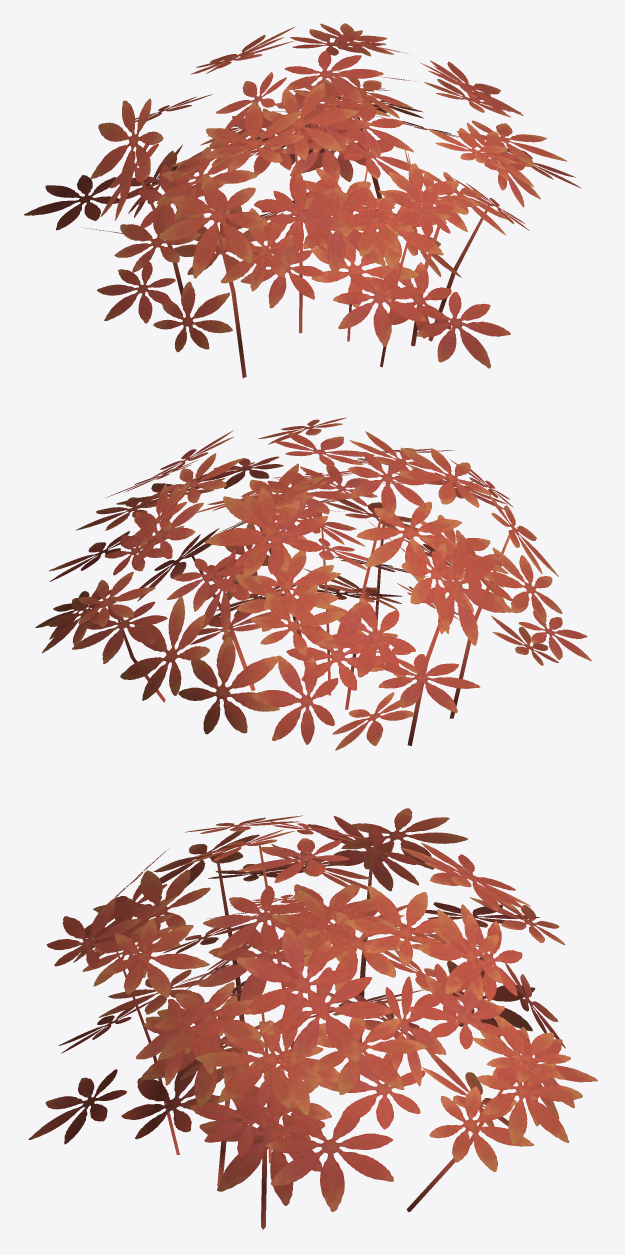
The model's file is P_BushChina02.obj.
3 renders of one model, top to bottom at view 1: azimuth 30°, elevation 25°; view 2: azimuth 150°, elevation 25°; view 3: azimuth 270°, elevation 25°, orthographic. The views are drawn at different scales.
Size of the model in its own units: 3.07 by 1.63 by 2.58.
